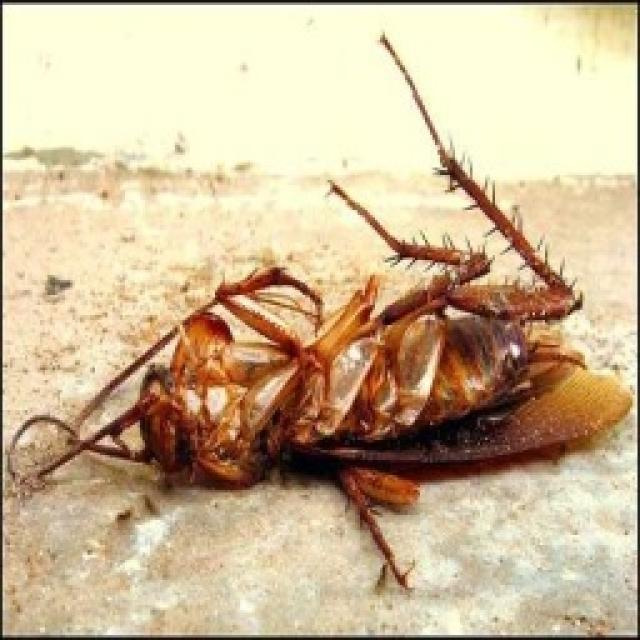cockroach: (7, 31, 634, 592)
